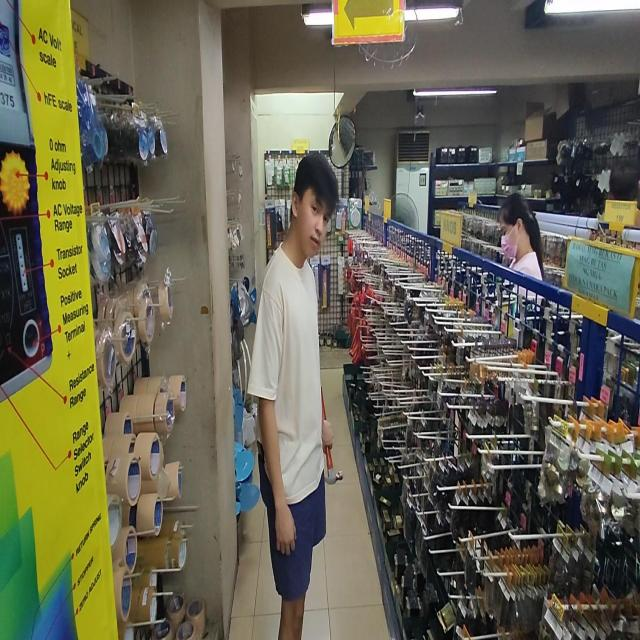hammer: (322, 383, 344, 485)
